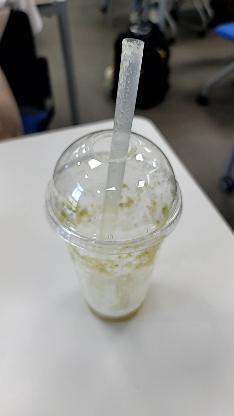Plastic Cup: (44, 119, 190, 329), (43, 128, 186, 252)
